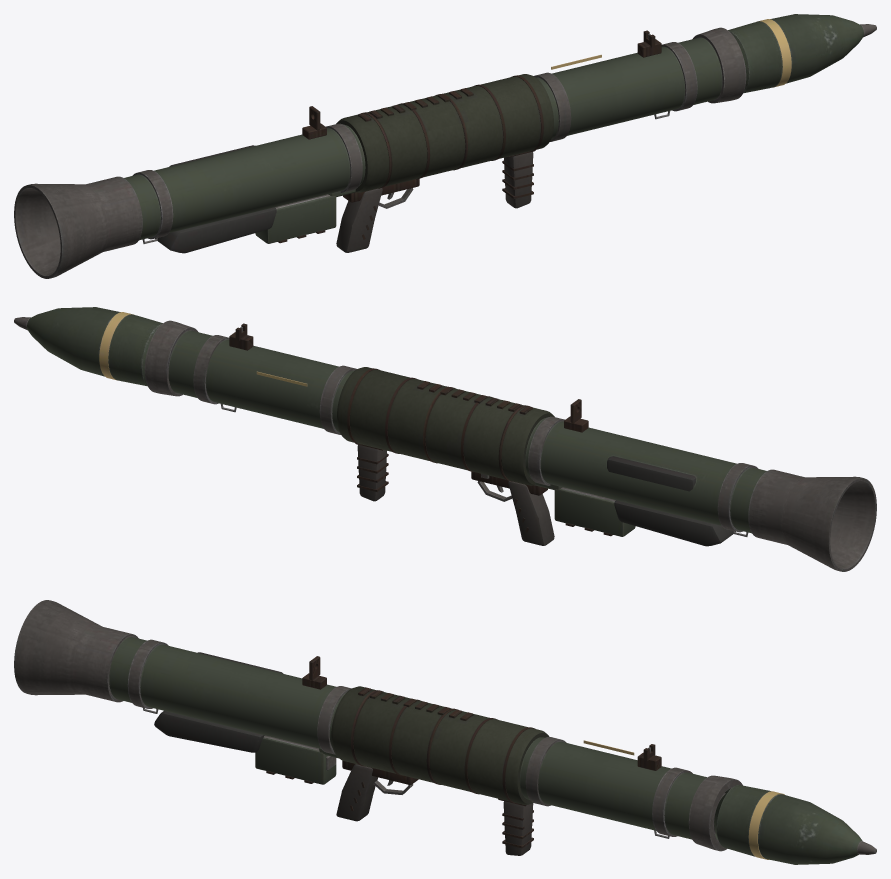
Rendered from weapon_rocket_launcher.glb.
3 renders of one model, top to bottom at view 1: azimuth 30°, elevation 25°; view 2: azimuth 150°, elevation 25°; view 3: azimuth 330°, elevation 25°, orthographic.
Visible parts, largest first — view 1: Body, Rocket, DefaultMag, DefaultGrip, IronSights; view 2: Body, Rocket, DefaultMag, DefaultGrip, IronSights; view 3: Body, Rocket, DefaultMag, DefaultGrip, IronSights.
Boxes of the visible parts, <box> form: Body: <box>14,27,746,278</box>; Rocket: <box>728,14,876,93</box>; DefaultMag: <box>255,194,336,243</box>; DefaultGrip: <box>502,150,535,208</box>; IronSights: <box>302,30,661,139</box>; Body: <box>144,320,876,571</box>; Rocket: <box>14,307,162,386</box>; DefaultMag: <box>554,487,635,536</box>; DefaultGrip: <box>355,443,388,501</box>; IronSights: <box>229,323,588,432</box>; Body: <box>14,600,742,851</box>; Rocket: <box>714,785,876,864</box>; DefaultMag: <box>255,735,336,784</box>; DefaultGrip: <box>498,798,533,855</box>; IronSights: <box>302,656,661,770</box>.
Bounding box in the file's own units: 1.33 × 0.224 × 0.132.
1 material, 1 textured.
